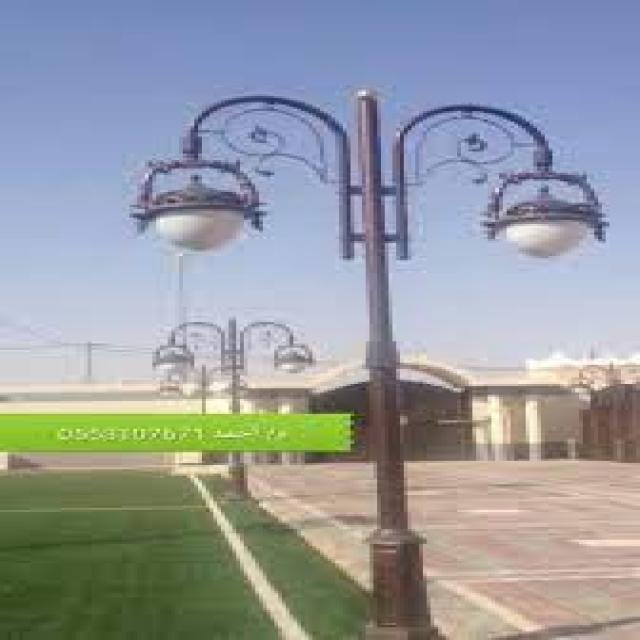Street Light: (130, 85, 610, 636), (156, 318, 316, 497)
